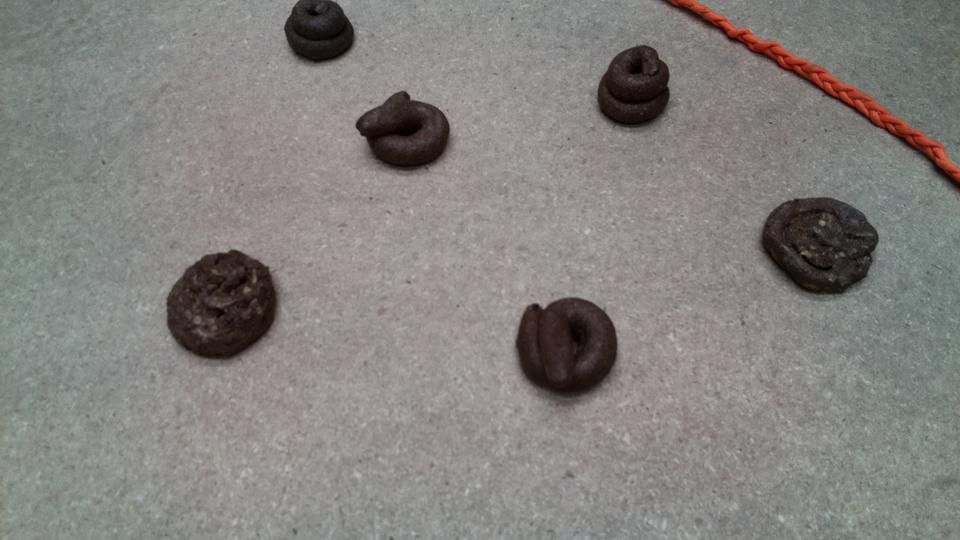poop: (164, 246, 282, 365), (759, 191, 883, 298), (514, 293, 622, 402), (353, 87, 454, 174), (594, 41, 675, 133), (283, 1, 357, 66)
rope: (687, 1, 960, 170)
